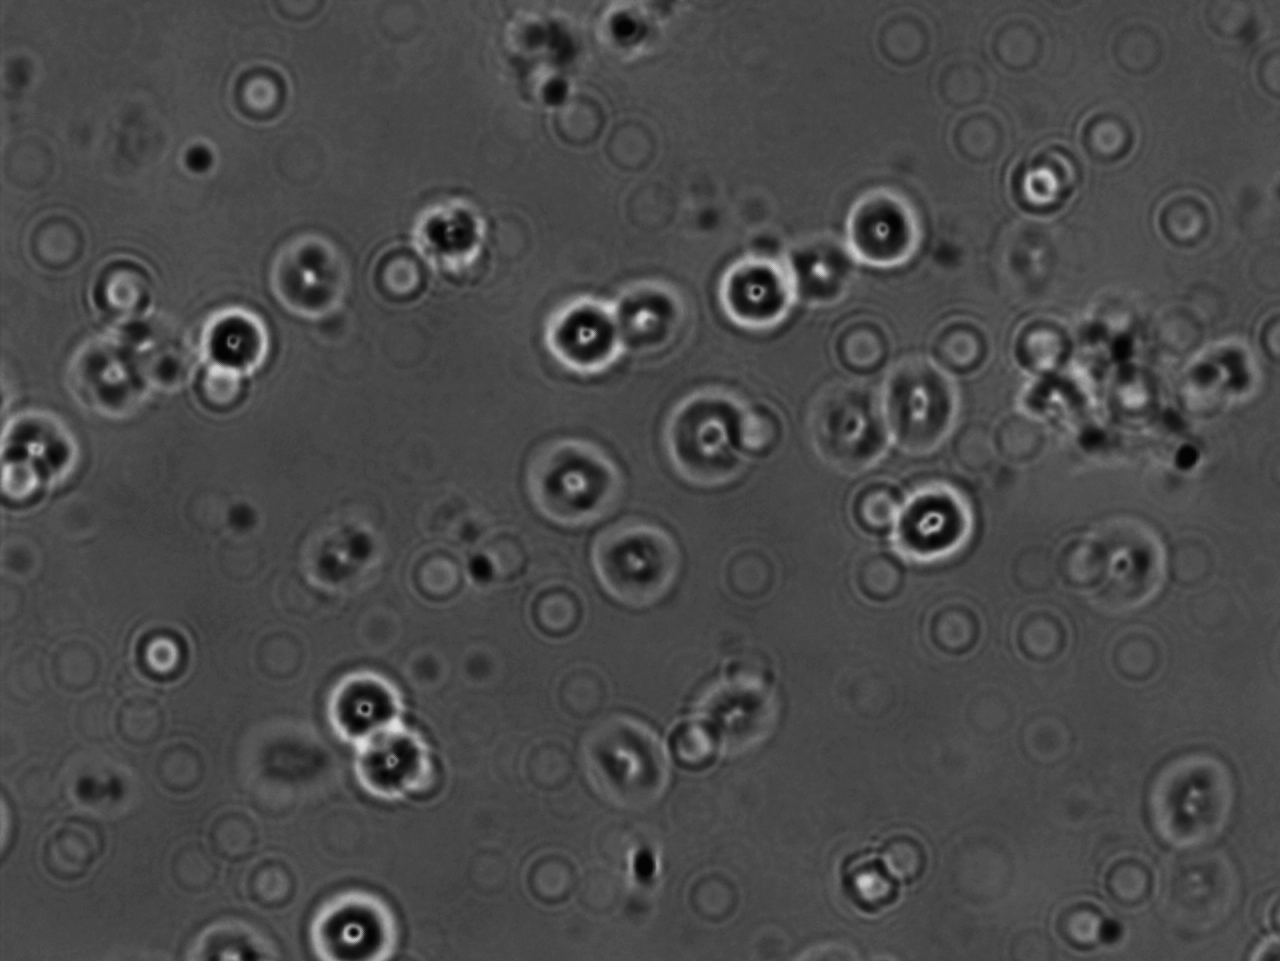depth:-8: (645, 382, 777, 496), (506, 429, 643, 536), (872, 471, 995, 580), (342, 715, 466, 823), (578, 506, 694, 618), (289, 873, 427, 961), (523, 289, 640, 392), (191, 291, 293, 400), (709, 240, 810, 349), (831, 179, 929, 289), (310, 658, 431, 743), (402, 193, 508, 281)
